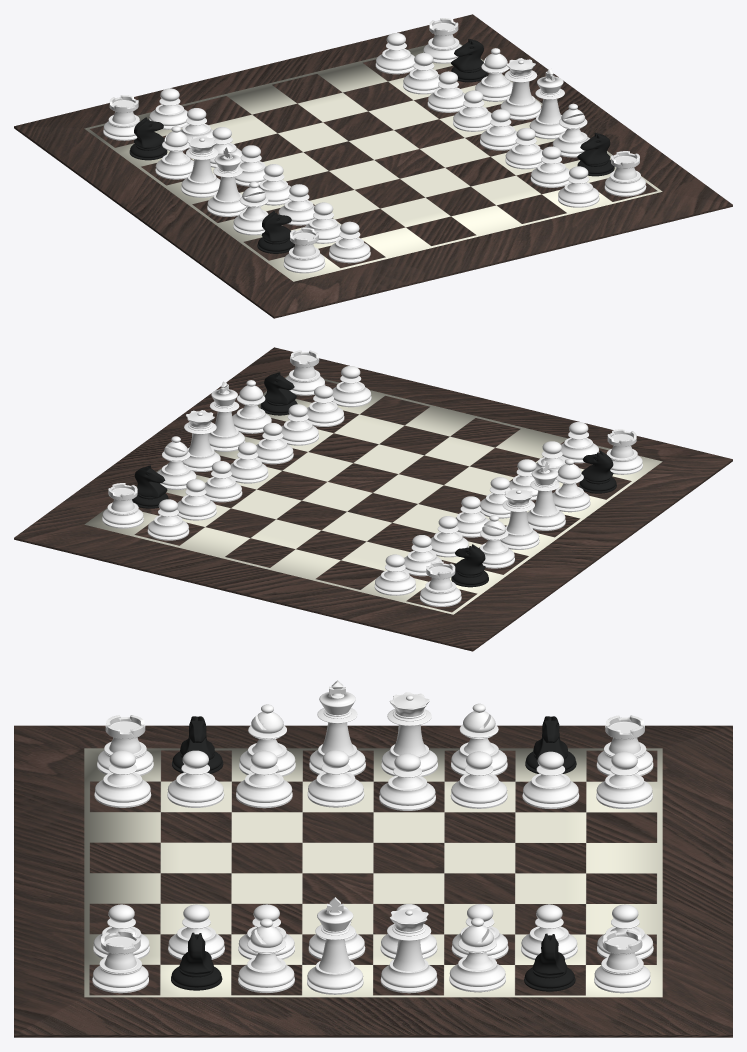
The picture shows the model from 3 angles, top to bottom: view 1: azimuth 30°, elevation 25°; view 2: azimuth 150°, elevation 25°; view 3: azimuth 270°, elevation 25°; orthographic projection. The views are drawn at different scales.
Parts seen in each view (by area): view 1: Plane.064, Plane.001, Circle.002, Circle.003, Circle.016, Circle.017, Circle.005, Circle.015, Cube, Cube.003, Circle.001, Cube.001 (+22 smaller); view 2: Plane.064, Plane.001, Circle.003, Circle.002, Circle.017, Circle.016, Circle.001, Circle.020, Cube.001, Cube.002, Cube.003, Cube (+22 smaller); view 3: Plane.064, Plane.001, Circle.017, Circle.016, Circle.002, Cube.002, Cube.003, Circle.003, Circle.020, Circle.015, Circle.010, Circle (+22 smaller).
Boxes of the visible parts, x1,y1,x2,y2 form: Plane.064: [14, 14, 732, 318]; Plane.001: [84, 43, 662, 281]; Circle.002: [181, 135, 220, 197]; Circle.003: [207, 146, 247, 216]; Circle.016: [500, 58, 541, 120]; Circle.017: [529, 69, 566, 139]; Circle.005: [283, 227, 325, 273]; Circle.015: [604, 151, 646, 196]; Cube: [155, 126, 193, 179]; Cube.003: [475, 48, 512, 101]; Circle.001: [103, 95, 139, 140]; Cube.001: [233, 181, 268, 235]; Plane.064: [14, 347, 732, 651]; Plane.001: [84, 375, 662, 614]; Circle.003: [527, 460, 565, 530]; Circle.002: [500, 488, 539, 549]; Circle.017: [208, 381, 245, 451]; Circle.016: [182, 410, 220, 471]; Circle.001: [420, 561, 461, 606]; Circle.020: [102, 483, 143, 528]; Cube.001: [552, 458, 590, 512]; Cube.002: [232, 380, 271, 433]; Cube.003: [157, 436, 196, 489]; Cube: [479, 515, 514, 568]; Plane.064: [14, 725, 732, 1037]; Plane.001: [84, 748, 662, 997]; Circle.017: [307, 897, 363, 994]; Circle.016: [380, 907, 437, 993]; Circle.002: [381, 692, 437, 776]; Cube.002: [238, 918, 294, 992]; Cube.003: [449, 918, 505, 992]; Circle.003: [309, 680, 365, 775]; Circle.020: [594, 930, 650, 993]; Circle.015: [92, 930, 148, 993]; Circle.010: [307, 750, 364, 807]; Circle: [596, 751, 652, 808].
Size of the model in its own units: 1.82 by 0.2607 by 1.79.
Materials: 4 (2 with a texture image).
